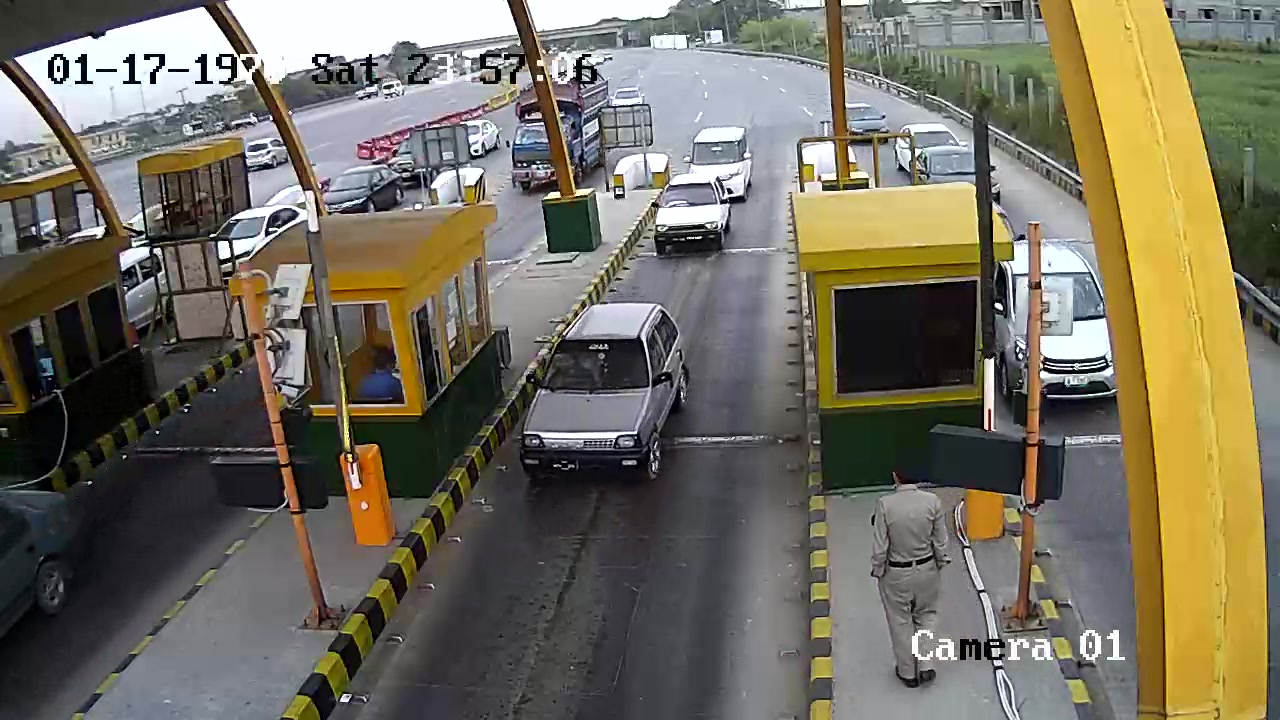F1: (520, 301, 693, 495)
